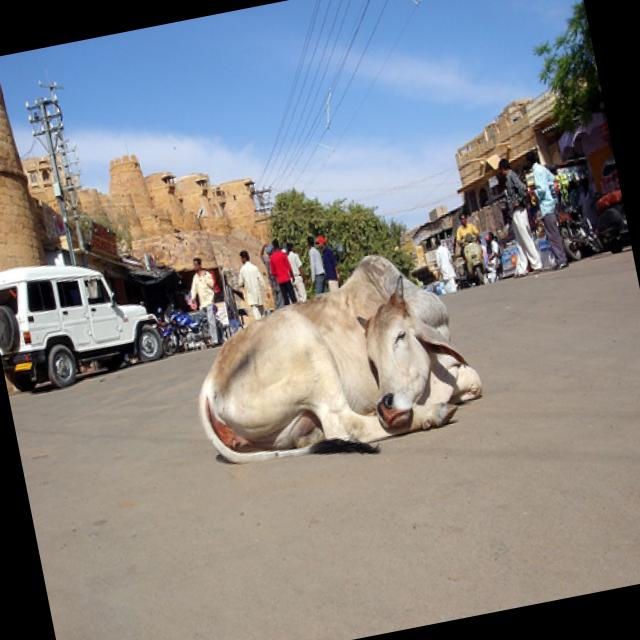Vehicle: (0, 240, 167, 397), (156, 296, 226, 356), (556, 196, 606, 262), (586, 189, 632, 257), (496, 234, 558, 278), (456, 232, 486, 285)
